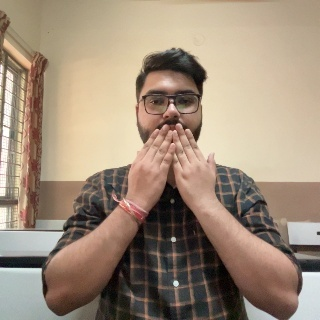Thank You: (123, 122, 223, 207)
